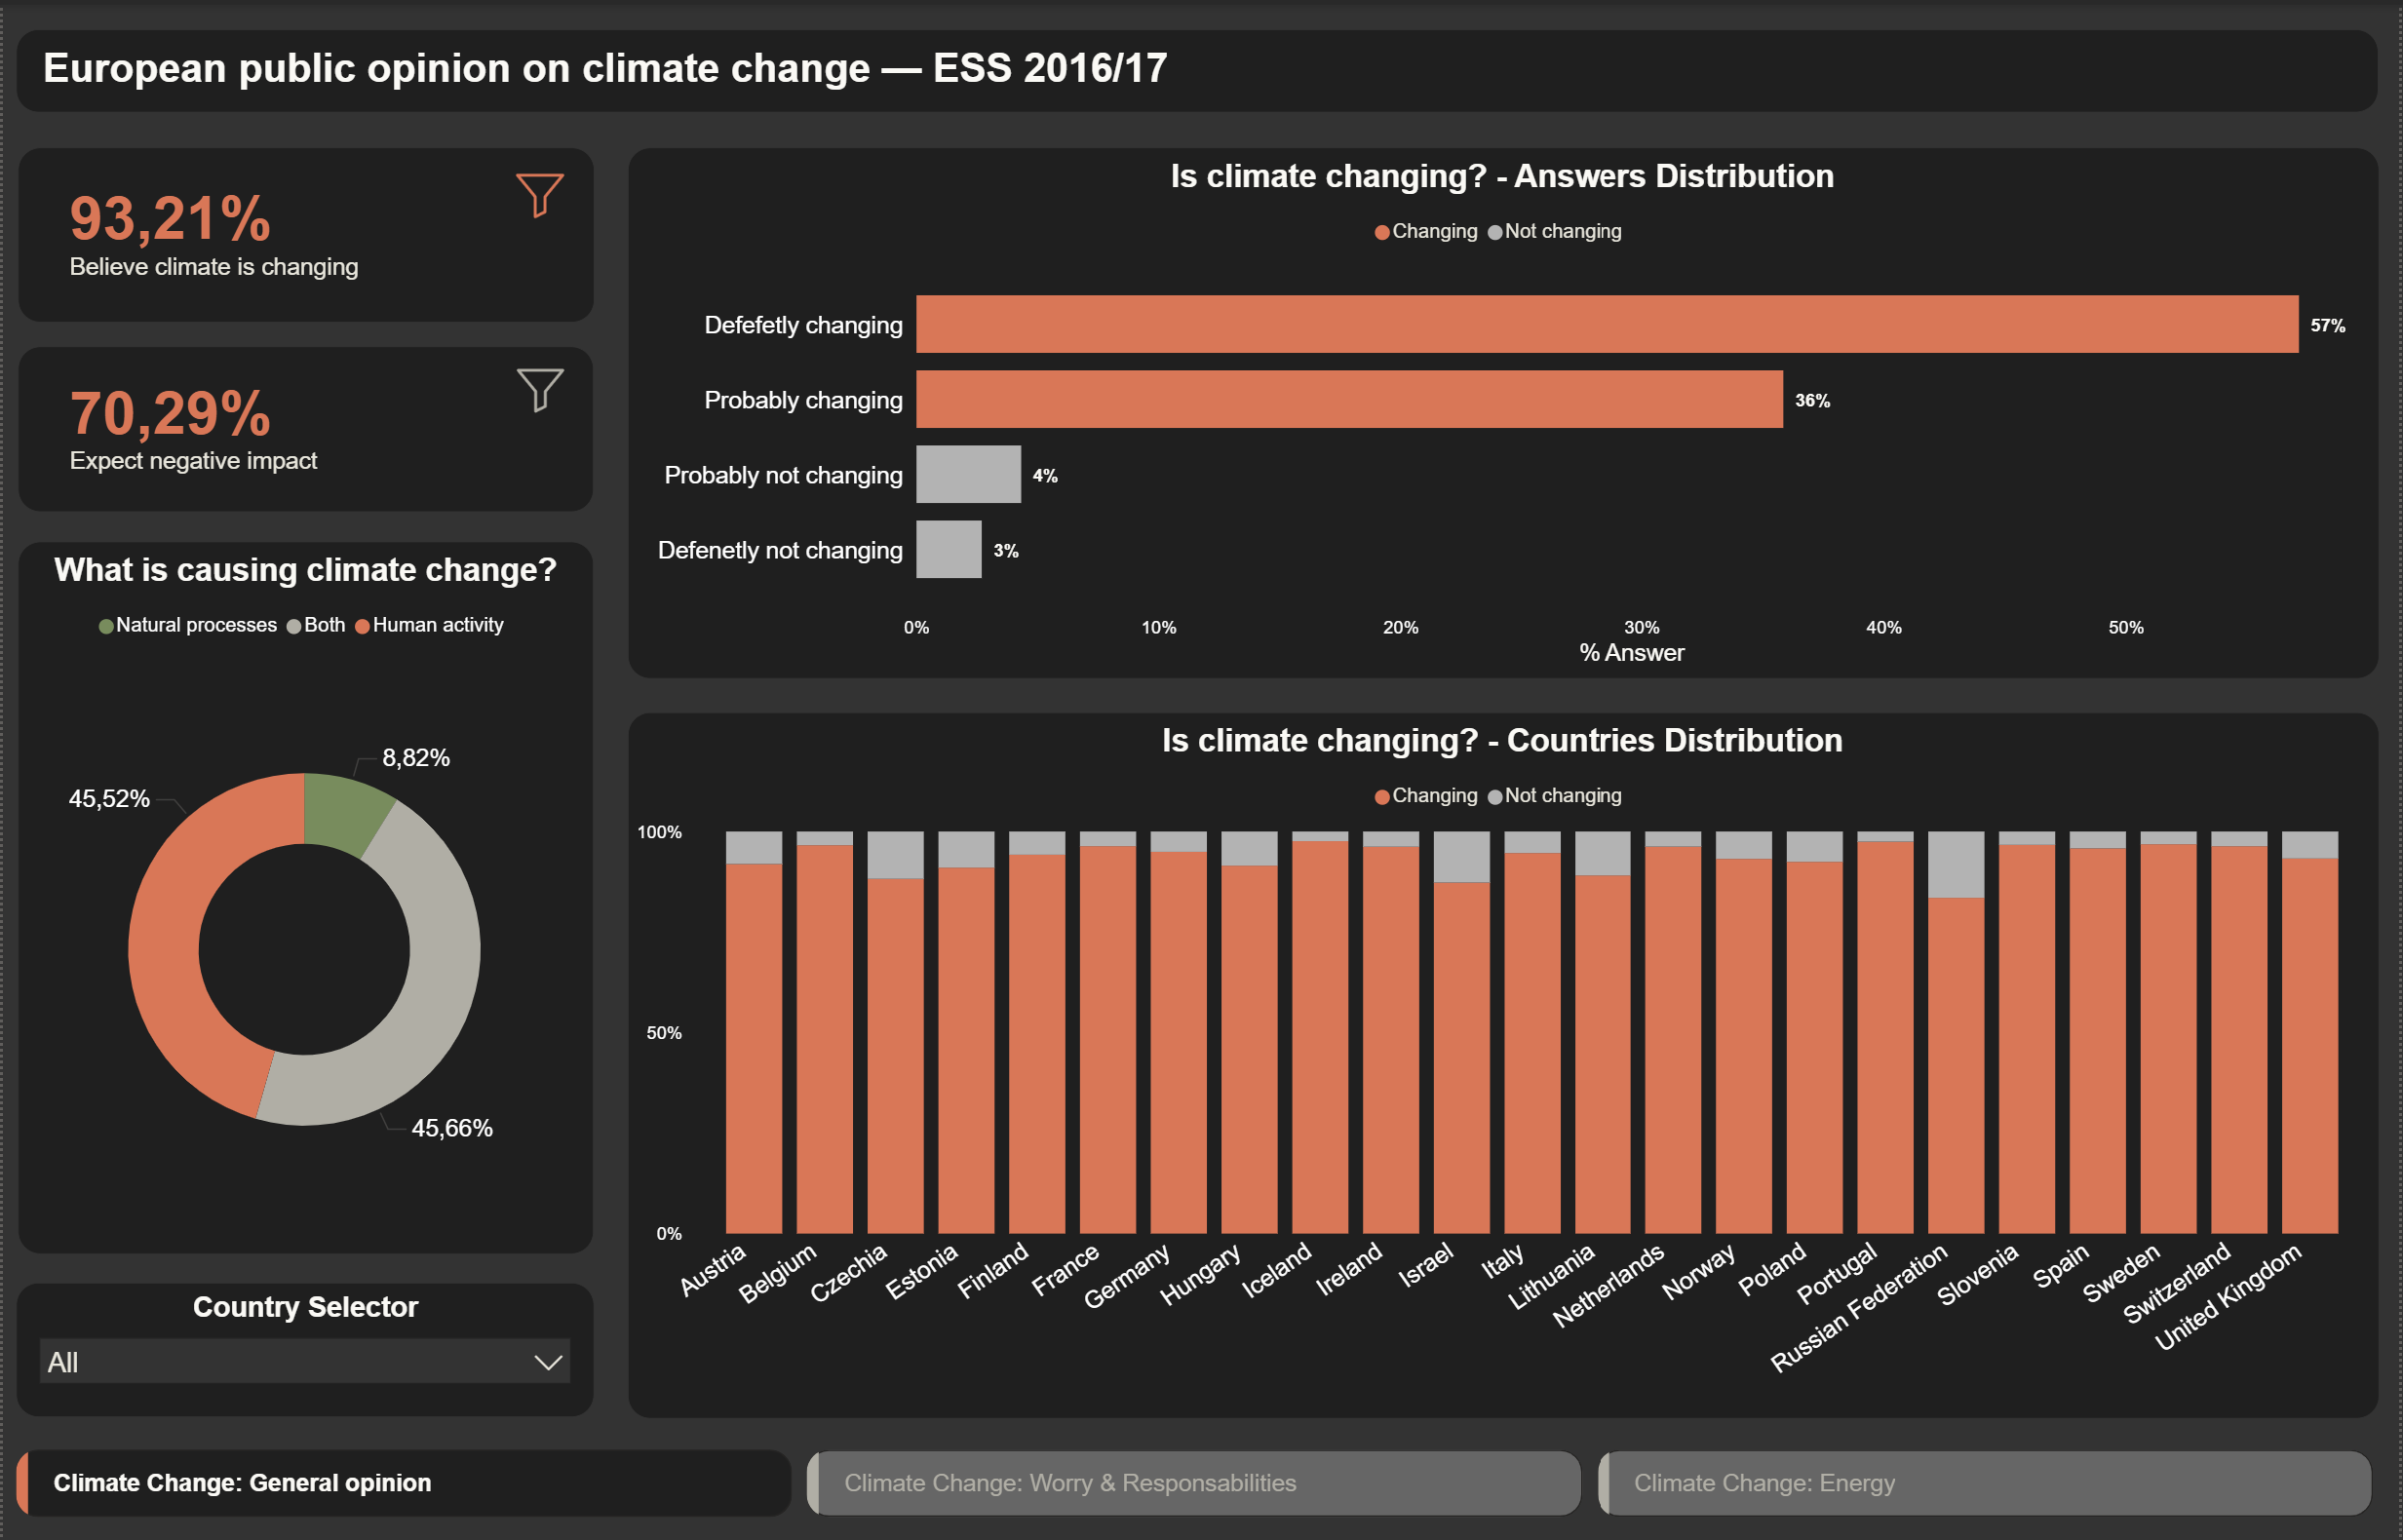

This screenshot's page, from the dashboard's own definition file:
{"tool":"powerbi","page":{"name":"Climate Change: General opinion","canvas":[1600,1025],"ordinal":0},"visuals":[{"type":"cardVisual","fields":{"Data":["_Measures.% Believe Climate Is Changing"]},"box":[10,95,385,116.7],"z":0},{"type":"cardVisual","fields":{"Data":["_Measures.% Expected negative impact"]},"box":[10,227.6,384.5,110.5],"z":1000},{"type":"barChart","title":"Is climate changing? - Answers Distribution","fields":{"Y":["Sum(BinaryData.id)"],"Series":["BinaryData.Answer Category"],"Category":["BinaryData.AnswerLabel"]},"box":[416.7,95,1170,355],"z":2000},{"type":"hundredPercentStackedColumnChart","title":"Is climate changing? - Countries Distribution","fields":{"Y":["Sum(BinaryData.id)"],"Series":["BinaryData.Answer Category"],"Category":["BinaryData.Country"]},"box":[416.7,471.7,1170,471.7],"z":3000},{"type":"image","title":"Filter Active 1","box":[342.5,111.8,33,32],"z":7000},{"type":"image","title":"Filter Inactive 2","box":[342,242.4,33.6,31.8],"z":8000},{"type":"pageNavigator","box":[8.6,964.3,1575.7,45.7],"z":10000},{"type":"slicer","title":"Country Selector","fields":{"Values":["CountriesList.Country"]},"box":[8.6,853.3,385.7,90],"z":11000},{"type":"donutChart","title":"What is causing climate change?","fields":{"Y":["CountNonNull(TernaryData.Answer Category)"],"Category":["TernaryData.Answer Category"]},"box":[10,358.6,384.3,475.7],"z":12000},{"type":"textbox","box":[8.9,16.7,1577.8,55.6],"z":13000}]}

Visuals, with their boxes in screenshot pixels (x1, y1, x2, y2), scaled from the page's 1600x1025 canvas onto the 2403x1540 screenshot:
cardVisual - _Measures.% Believe Climate Is Changing: region(15, 142, 594, 318)
cardVisual - _Measures.% Expected negative impact: region(15, 342, 593, 508)
"Is climate changing? - Answers Distribution" barChart: region(626, 142, 2384, 676)
"Is climate changing? - Countries Distribution" hundredPercentStackedColumnChart: region(626, 709, 2384, 1417)
"Filter Active 1" image: region(515, 168, 564, 216)
"Filter Inactive 2" image: region(514, 365, 564, 412)
pageNavigator: region(13, 1448, 2380, 1518)
"Country Selector" slicer: region(13, 1282, 592, 1417)
"What is causing climate change?" donutChart: region(15, 539, 592, 1253)
textbox: region(14, 25, 2384, 108)
